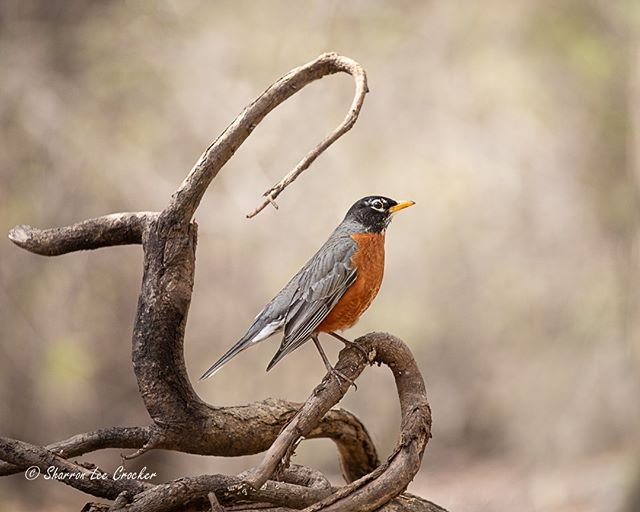animal: (201, 188, 424, 412)
